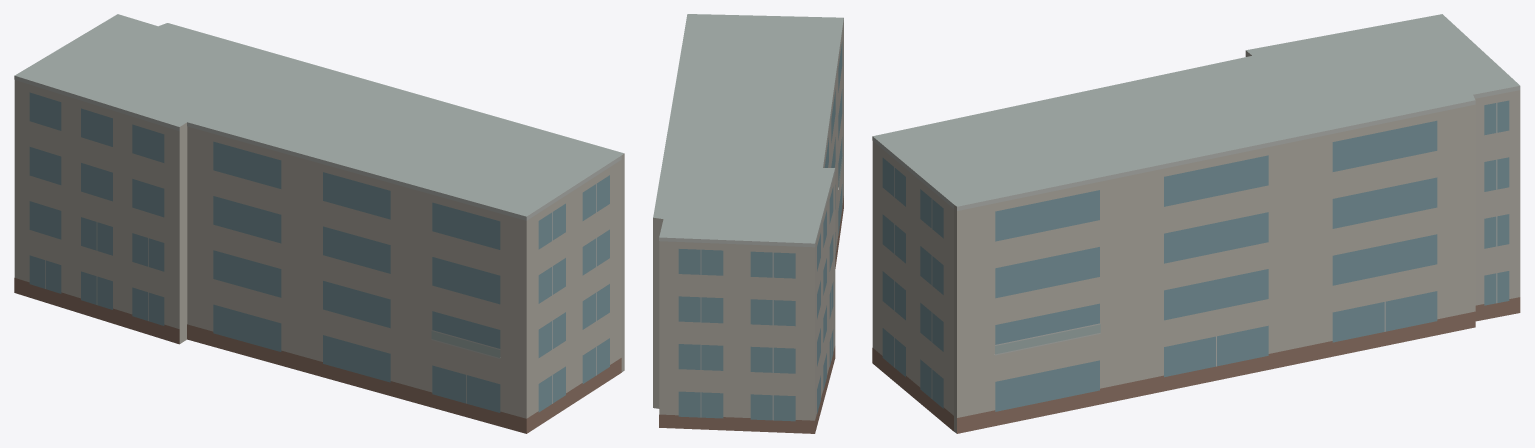
File: survey-upis-33039203.glb
3 views of the same model, side by side, from view 1: azimuth 30°, elevation 25°; view 2: azimuth 150°, elevation 25°; view 3: azimuth 270°, elevation 25° (orthographic). The views are drawn at different scales.
Parts seen in each view (by area): view 1: survey-upis-33039203.tmp; view 2: survey-upis-33039203.tmp; view 3: survey-upis-33039203.tmp.
Boxes of the visible parts, x1=… form: survey-upis-33039203.tmp: x1=14, y1=14, x2=624, y2=433; survey-upis-33039203.tmp: x1=653, y1=14, x2=843, y2=433; survey-upis-33039203.tmp: x1=872, y1=14, x2=1520, y2=433.
Size of the model in its own units: 23.18 by 12.73 by 32.92.
